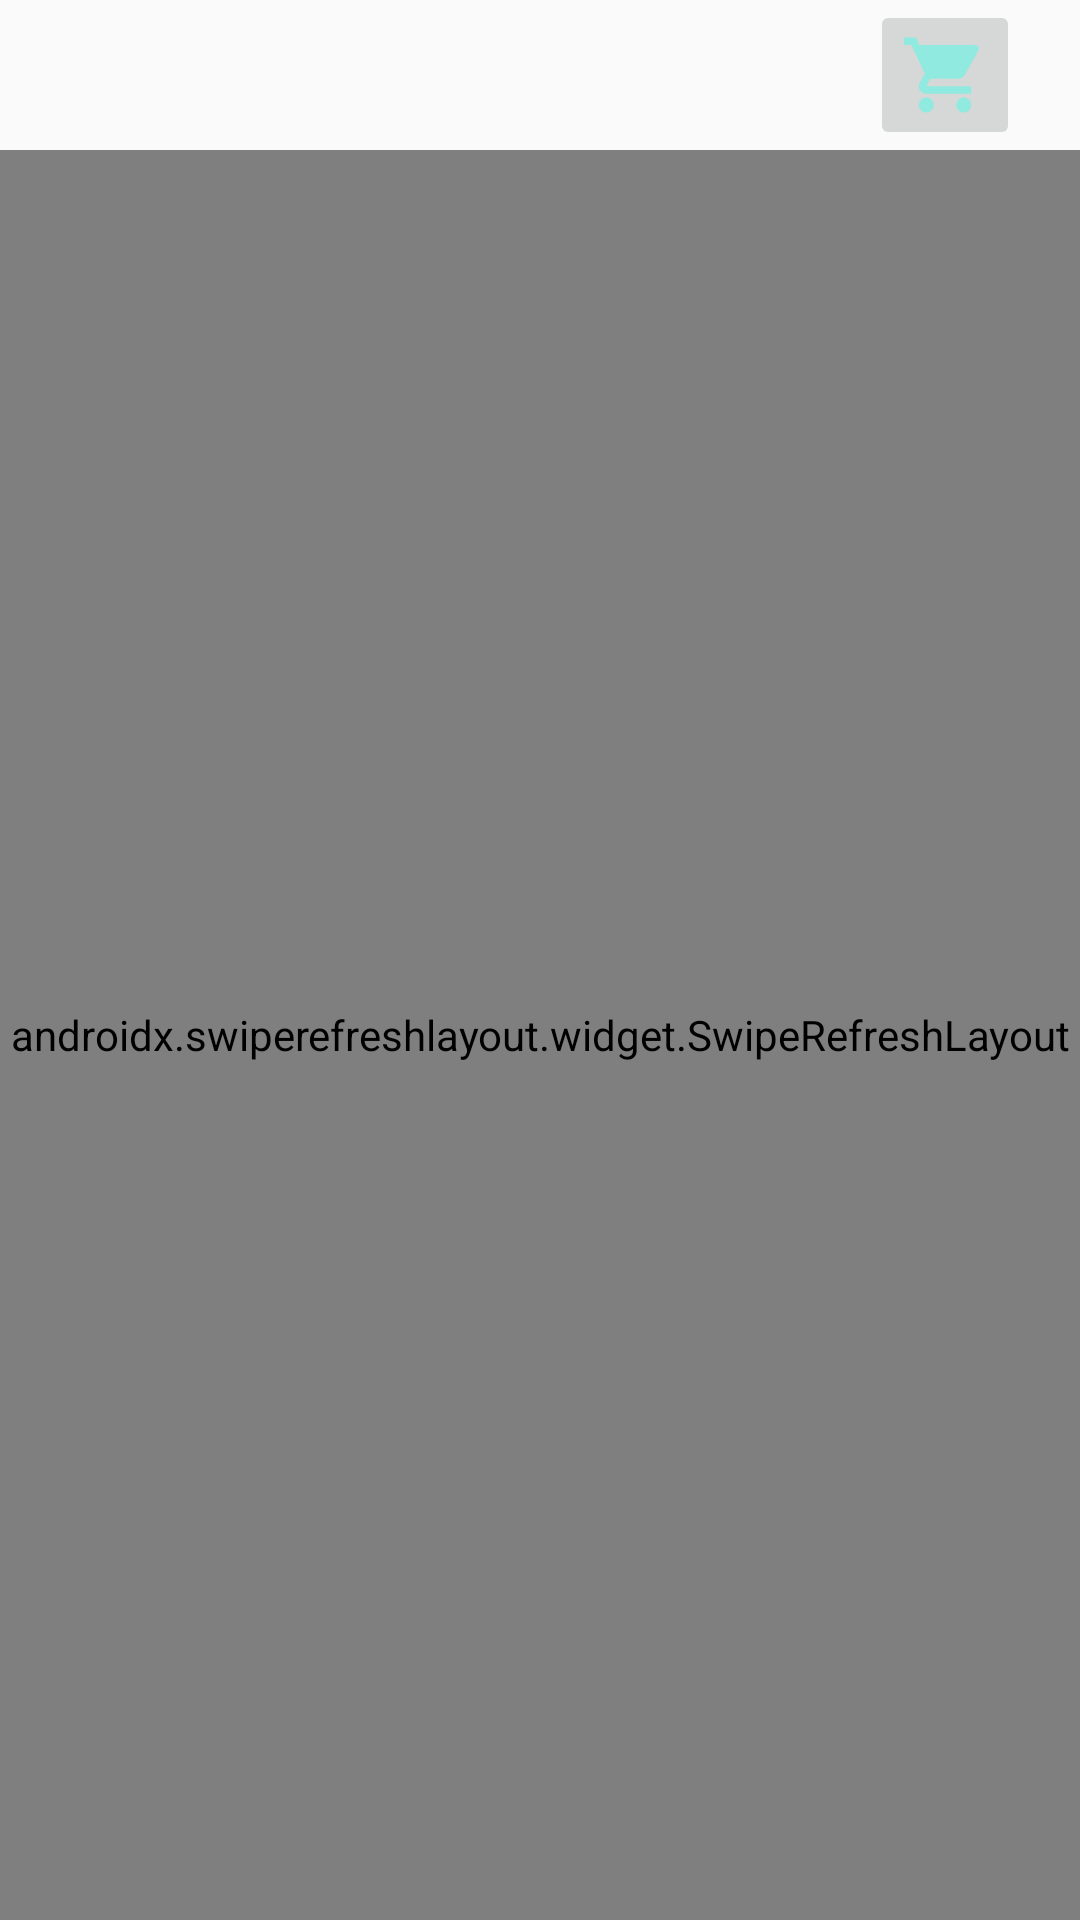

Where to tap for icons on this 1080px x 1920px app screen, as (x=x, y=y):
carthome: (x=945, y=75)
